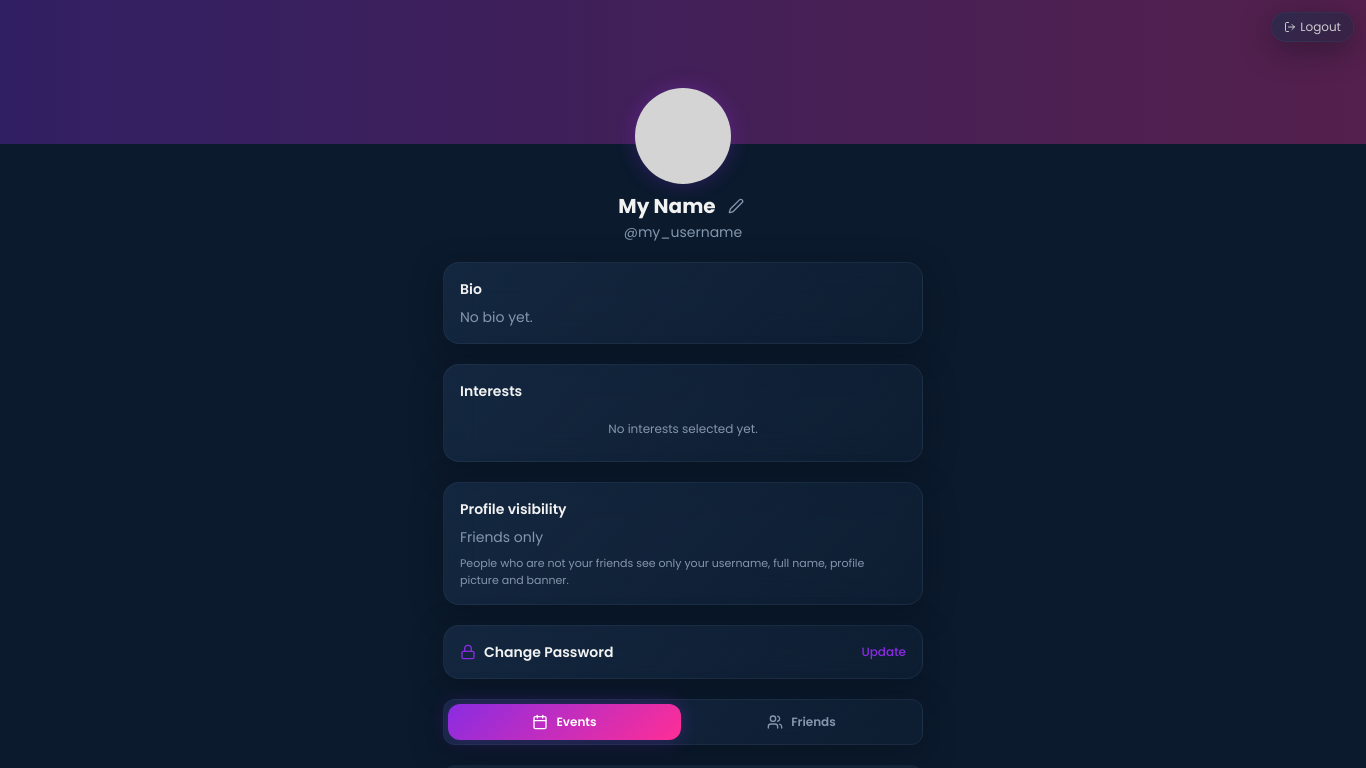
Test case: ProfilePage: Events / Friends tabs and event sub-tabs › Friends tab shows empty states for accepted friends and requests
This screenshot has width=1366, height=768.
Expected: the heading with test id "profile-full-name" reads "My Name", x1=618 y1=192 x2=716 y2=220
What coordinates should you click on to do the following:
click the tab with test id "main-tab-friends"
I would click on:
 (802, 722)
Its box is x1=685 y1=704 x2=918 y2=740.
(page scrolled)
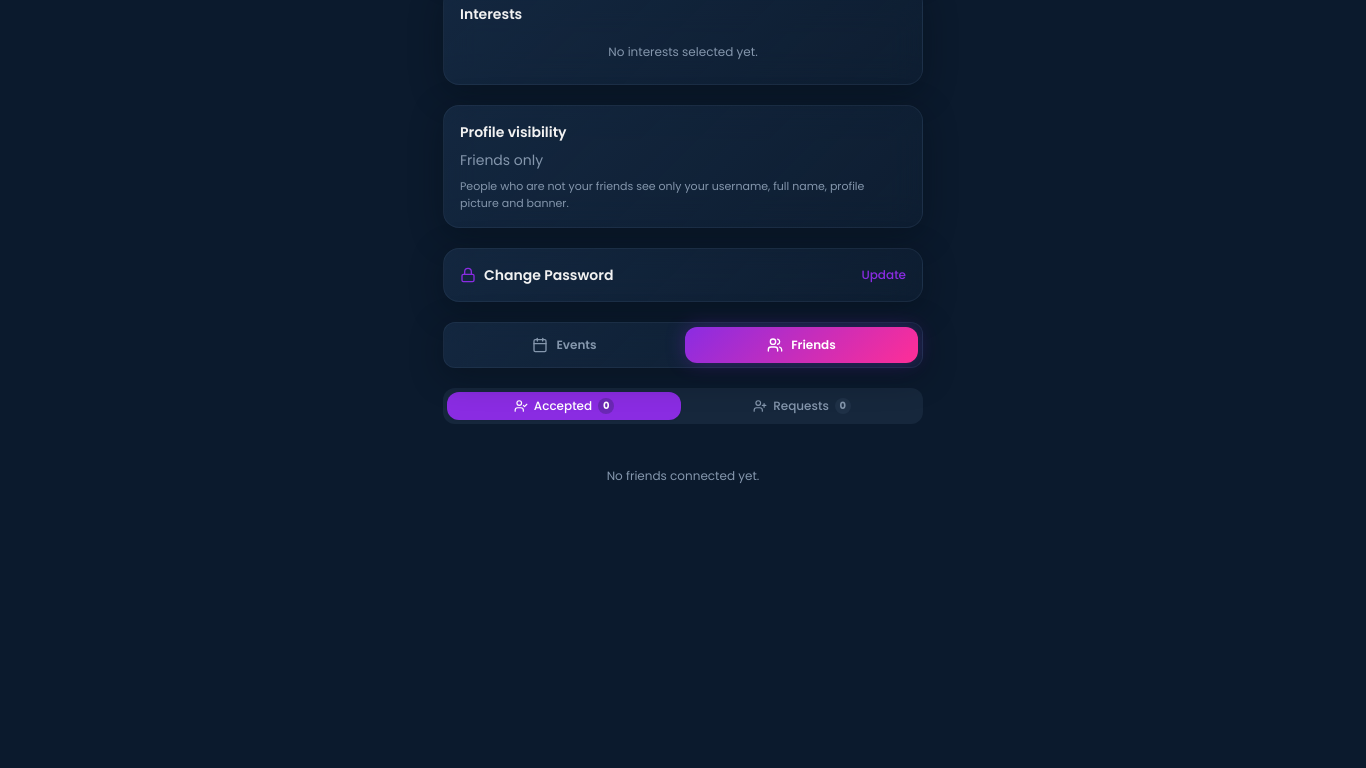
Now the text "No friends connected yet." is shown, box x1=607 y1=467 x2=759 y2=484
What coordinates should you click on to do the following:
click the button "Requests 0"
I would click on:
 (802, 406)
Its box is x1=685 y1=392 x2=919 y2=420.
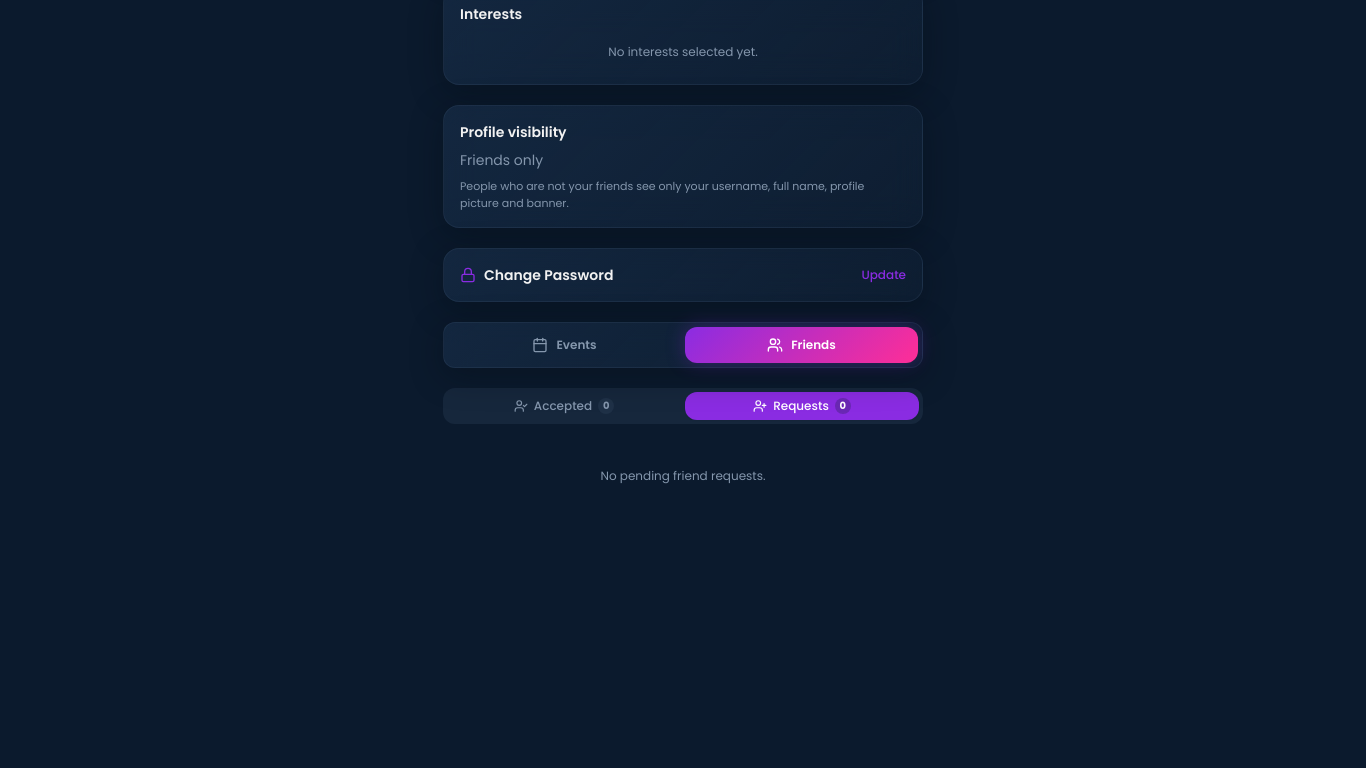
Now the text "No pending friend requests." is shown, box x1=600 y1=467 x2=766 y2=484
